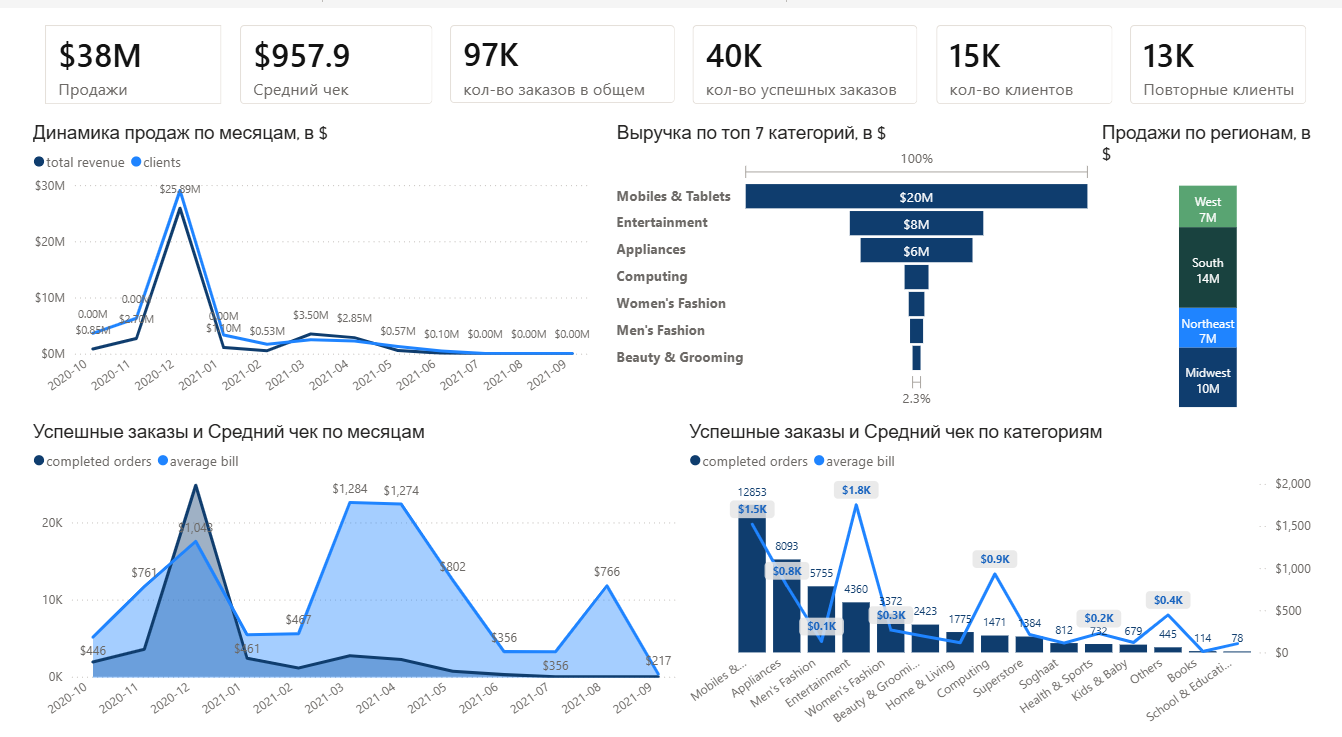

Layout of this report page (visuals, bound fields, positions):
{"tool":"powerbi","page":{"name":"Лист 1","canvas":[1280,720],"ordinal":1},"visuals":[{"type":"cardVisual","fields":{"Data":["Меры.clients"]},"box":[880,0,208,112],"z":0},{"type":"cardVisual","fields":{"Data":["Меры.orders"]},"box":[400,0,256,112],"z":1000},{"type":"lineChart","title":"Динамика продаж по месяцам, в $","fields":{"Category":["USA.year-month"],"Y":["Меры.total revenue"],"Y2":["Меры.clients"]},"box":[0,112,560,288],"z":2000},{"type":"funnel","title":"Выручка по топ 7 категорий, в $","fields":{"Category":["USA.category"],"Y":["Меры.total revenue"]},"box":[576,112,480,288],"z":3000},{"type":"cardVisual","fields":{"Data":["Меры.total revenue"]},"box":[0,0,208,112],"z":4000},{"type":"cardVisual","fields":{"Data":["Меры.orders"]},"box":[640,0,256,112],"z":5000},{"type":"columnChart","title":"Продажи по регионам, в $","fields":{"Series":["USA.Region"],"Y":["Sum(USA.total)"]},"box":[1056,112,224,288],"z":6000},{"type":"cardVisual","fields":{"Data":["Меры.average bill"]},"box":[192,0,224,112],"z":7000},{"type":"cardVisual","fields":{"Data":["Меры.repetitive clients"]},"box":[1072,0,208,112],"z":8000},{"type":"areaChart","title":"Успешные заказы и Средний чек по месяцам","fields":{"Category":["USA.year-month"],"Y":["Меры.completed orders"],"Y2":["Меры.average bill"]},"box":[0,408,648,312],"z":9000},{"type":"lineClusteredColumnComboChart","title":"Успешные заказы и Средний чек по категориям","fields":{"Y":["Меры.completed orders"],"Y2":["Меры.average bill"],"Category":["USA.category"]},"box":[648,408,624,312],"z":10000}]}

Visuals, with their boxes in screenshot pixels (x1, y1, x2, y2), scaled from the page's 1280x720 canvas onto the 1342x737 screenshot:
cardVisual - Меры.clients: 923 0 1141 115
cardVisual - Меры.orders: 419 0 688 115
"Динамика продаж по месяцам, в $" lineChart: 0 115 587 409
"Выручка по топ 7 категорий, в $" funnel: 604 115 1107 409
cardVisual - Меры.total revenue: 0 0 218 115
cardVisual - Меры.orders: 671 0 939 115
"Продажи по регионам, в $" columnChart: 1107 115 1341 409
cardVisual - Меры.average bill: 201 0 436 115
cardVisual - Меры.repetitive clients: 1124 0 1341 115
"Успешные заказы и Средний чек по месяцам" areaChart: 0 418 679 736
"Успешные заказы и Средний чек по категориям" lineClusteredColumnComboChart: 679 418 1334 736
